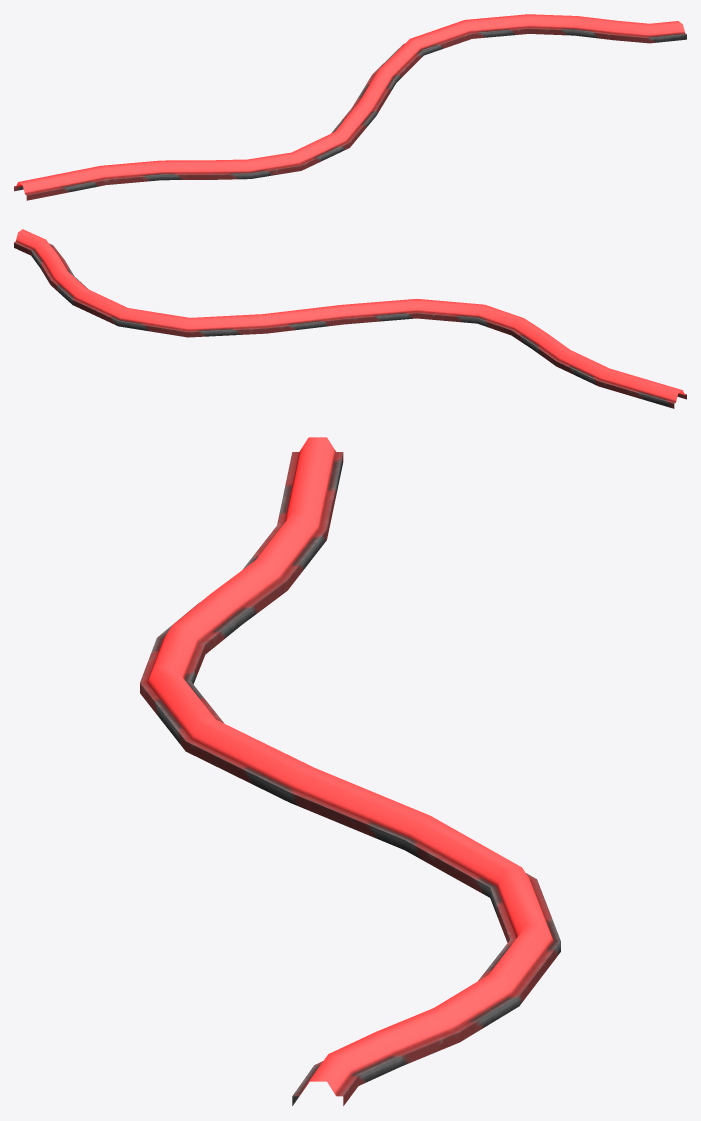
File: Way_L2.fbx
The picture shows the model from 3 angles, top to bottom: view 1: azimuth 30°, elevation 25°; view 2: azimuth 150°, elevation 25°; view 3: azimuth 270°, elevation 25°; orthographic projection. The views are drawn at different scales.
Parts seen in each view (by area): view 1: Way_L2; view 2: Way_L2; view 3: Way_L2.
Part boxes in pixels (x1,y1,x2,y2): Way_L2: (14, 14, 686, 200); Way_L2: (14, 229, 686, 408); Way_L2: (140, 437, 560, 1105).
Bounding box in the file's own units: 7 × 0.1253 × 1.93.
